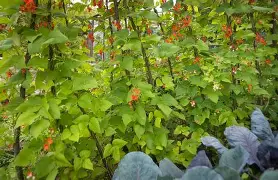crops: (0, 13, 270, 173), (1, 1, 77, 63)
